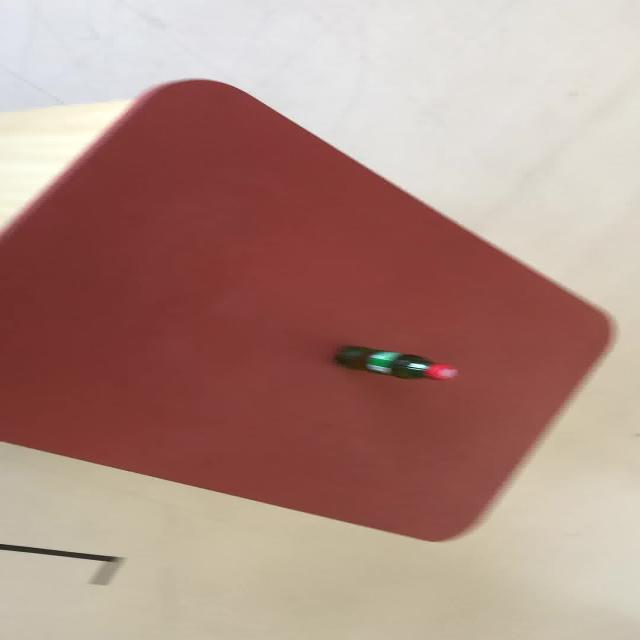guarana: (331, 344, 457, 381)
